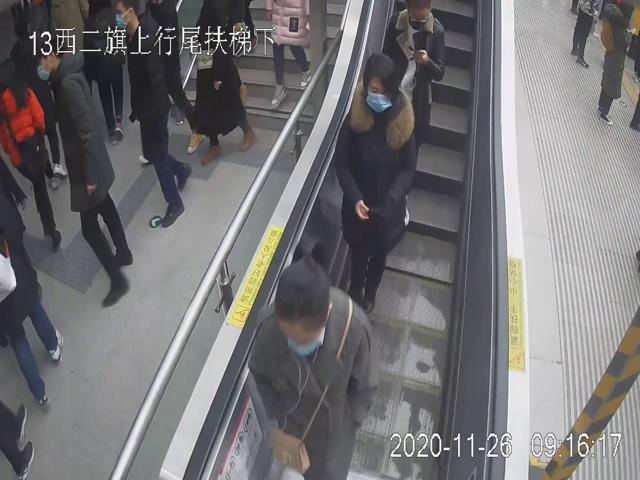person: (247, 238, 379, 480), (32, 26, 136, 308), (334, 52, 418, 320), (113, 0, 190, 227), (380, 0, 447, 154)
